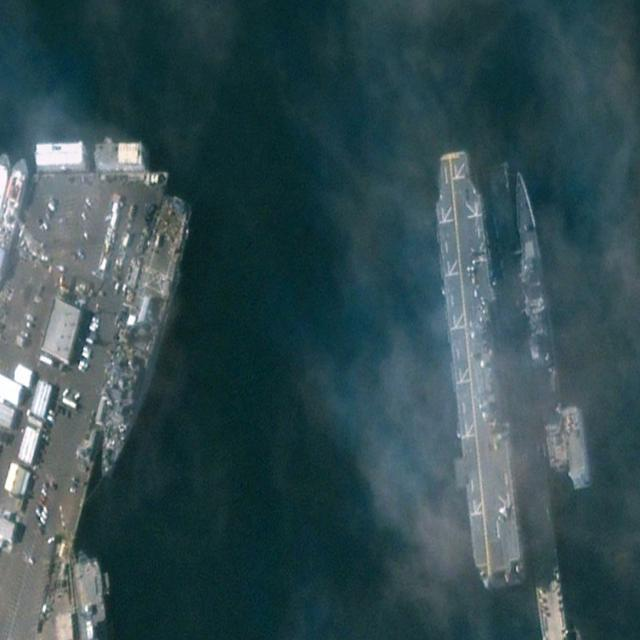Cruiser: (511, 165, 570, 477)
Landing: (428, 144, 530, 595), (81, 186, 202, 490)
